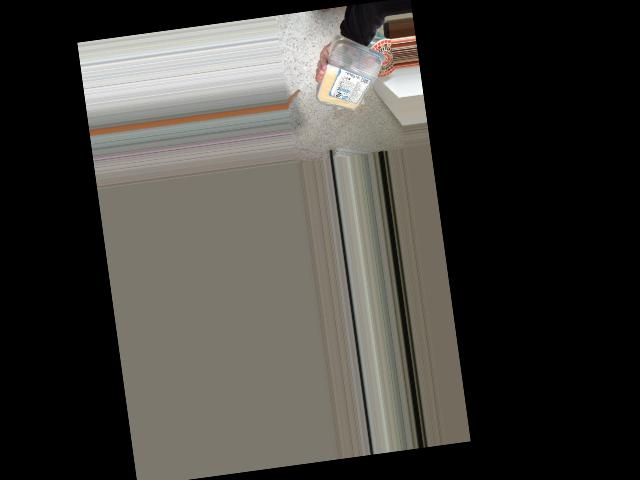cheese: (315, 46, 395, 116)
